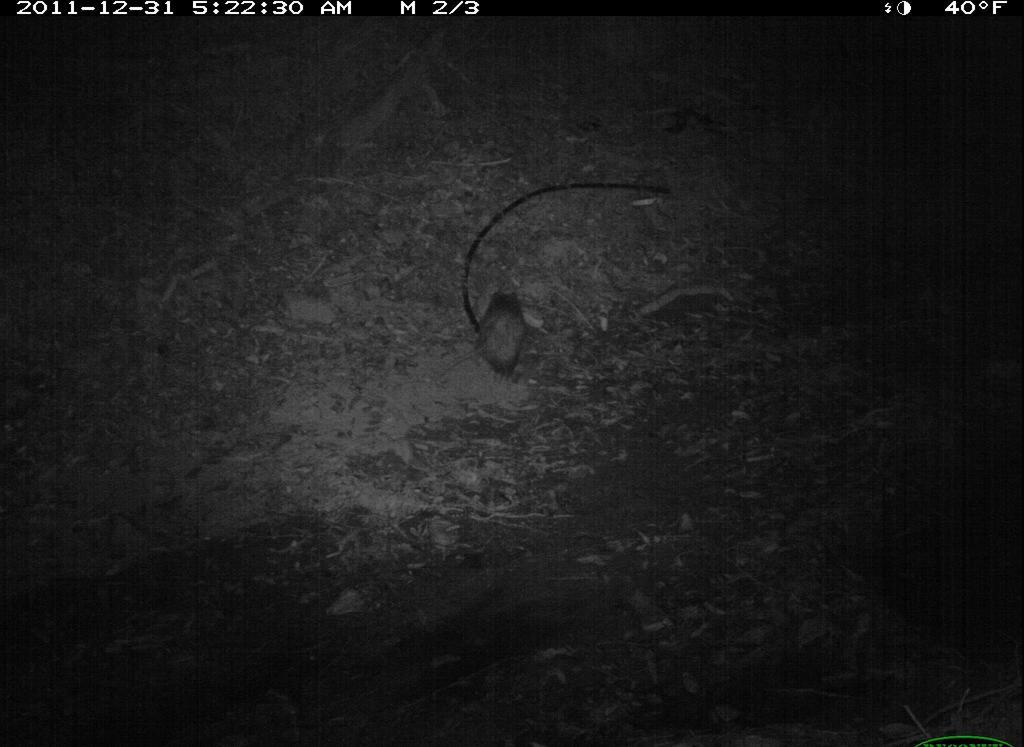opossum: (440, 277, 539, 395)
